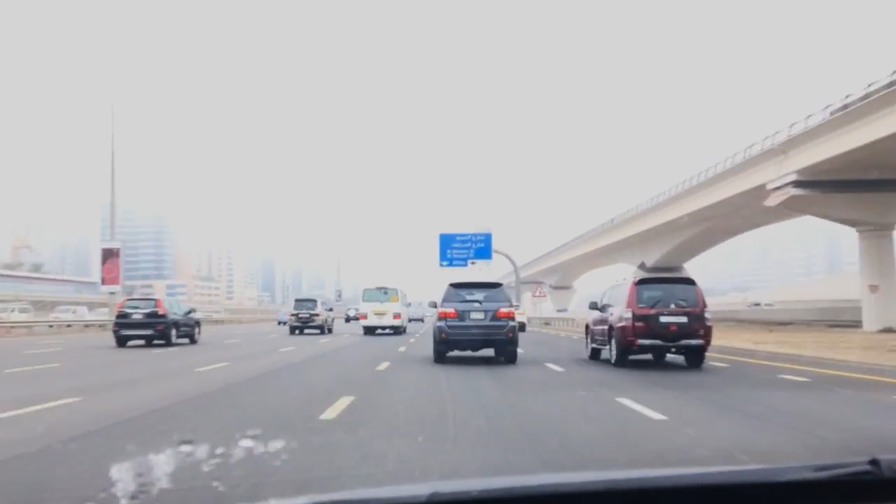bus: (1, 305, 35, 332)
car: (582, 274, 714, 371), (429, 280, 521, 368), (109, 298, 202, 346), (360, 285, 410, 336), (287, 296, 336, 335), (487, 301, 529, 332), (47, 305, 87, 328), (85, 306, 123, 328), (403, 301, 427, 324), (276, 305, 298, 325), (342, 305, 362, 324), (424, 310, 434, 317)
